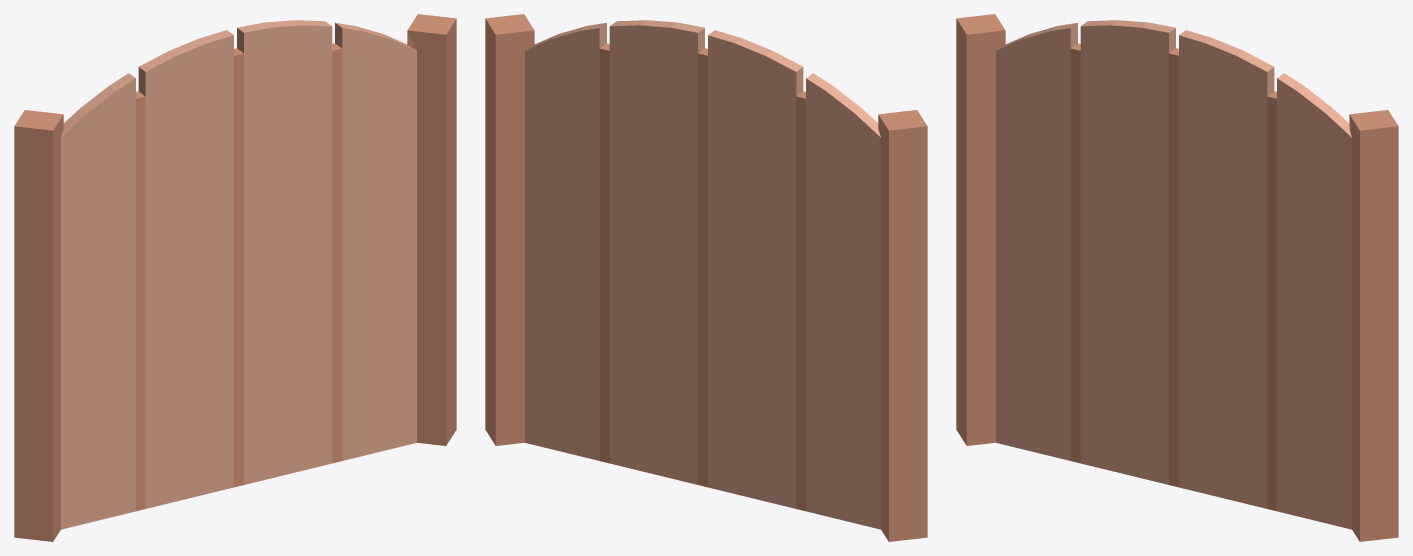
File: FenceGate.fbx
3 views of the same model, side by side, from view 1: azimuth 30°, elevation 25°; view 2: azimuth 150°, elevation 25°; view 3: azimuth 330°, elevation 25° (orthographic).
Parts seen in each view (by area): view 1: Gate, Fence; view 2: Gate, Fence; view 3: Gate, Fence.
Part boxes in pixels (x1,y1,x2,y2): Gate: [61, 20, 416, 529]; Fence: [14, 14, 456, 541]; Gate: [525, 20, 880, 529]; Fence: [485, 14, 927, 541]; Gate: [996, 20, 1351, 529]; Fence: [956, 14, 1398, 541].
Bounding box in the file's own units: 112 × 110 × 12.5.
